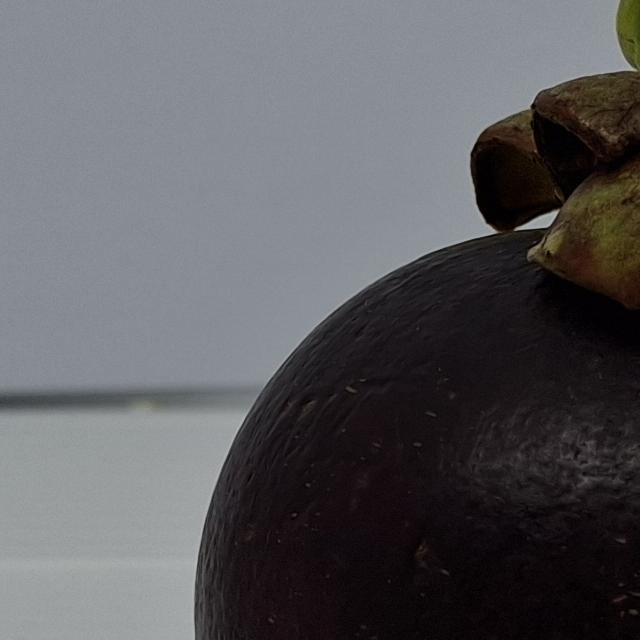mangosteen: (110, 0, 640, 640)
